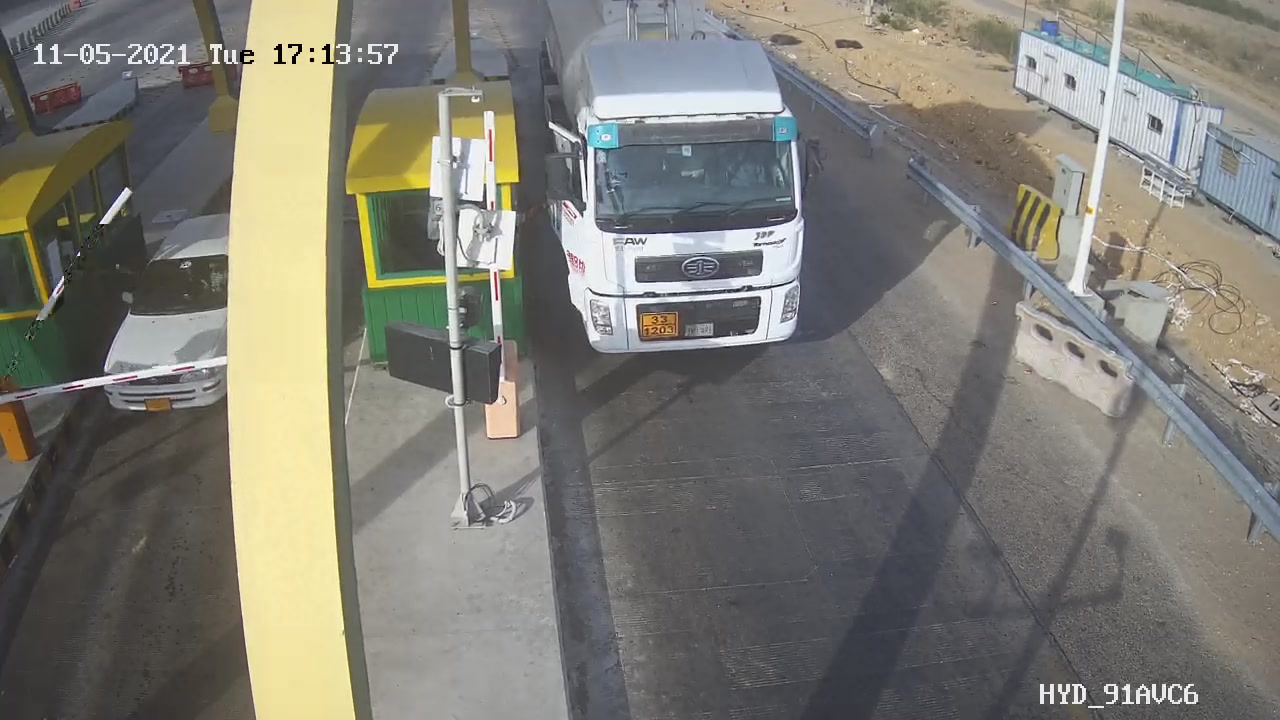F6: (518, 3, 846, 377)
